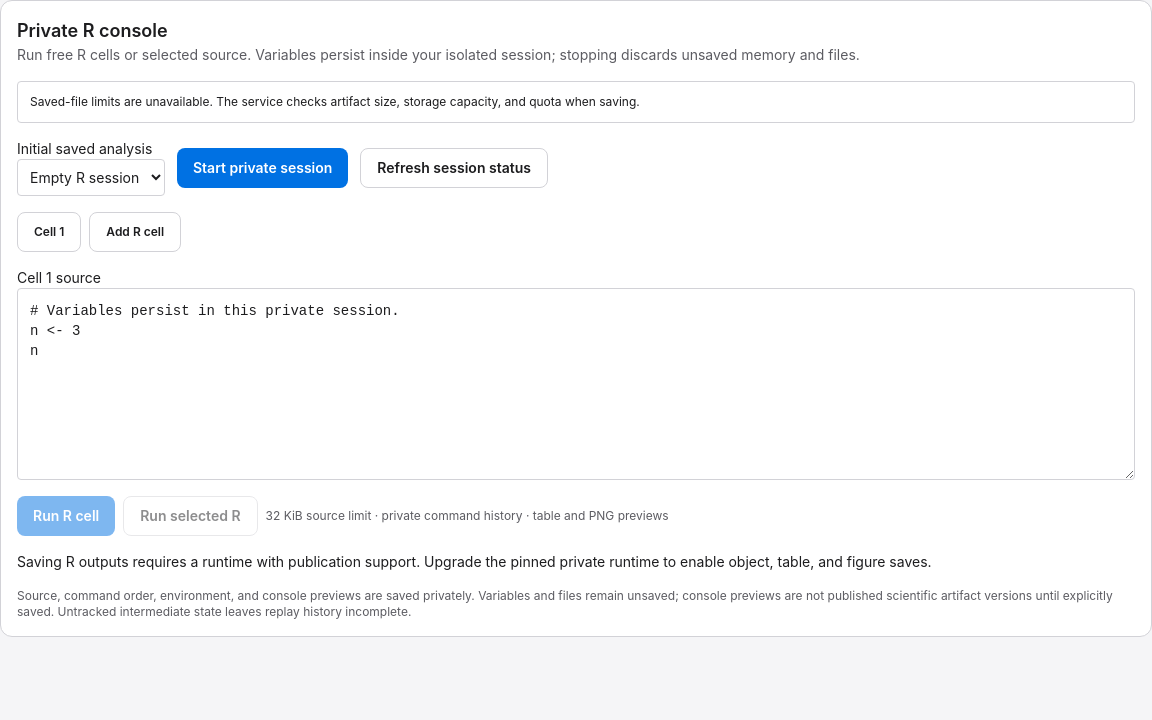
Scenario: keeps the existing console available on older runtimes and requires independently verified publication support
The image size is (1152, 720).
Click the button "Start private session": {"x": 263, "y": 168} [177,148,348,188]
(page scrolled)
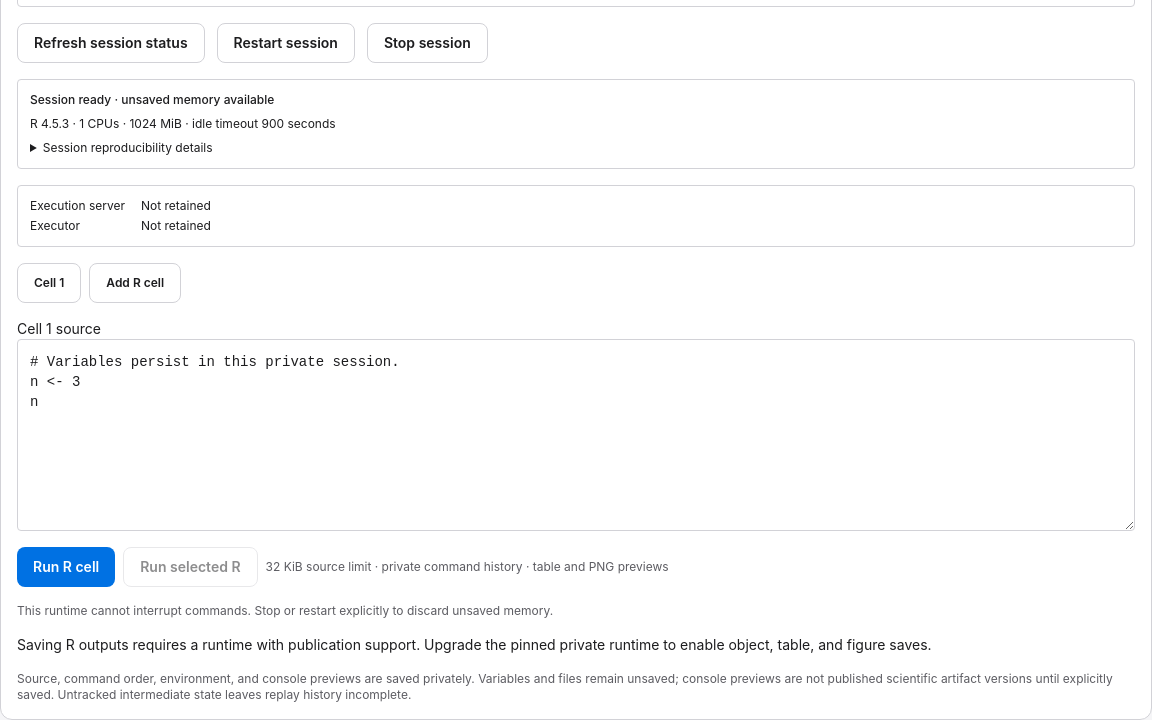
Expected: the text "Saving R outputs requires a runtime" is shown, [17,636,932,653]
Result: the text "Session ready · unsaved memory available" is shown at [30,92,274,107]
Result: the button "Run R cell" is enabled at [17,547,115,587]
